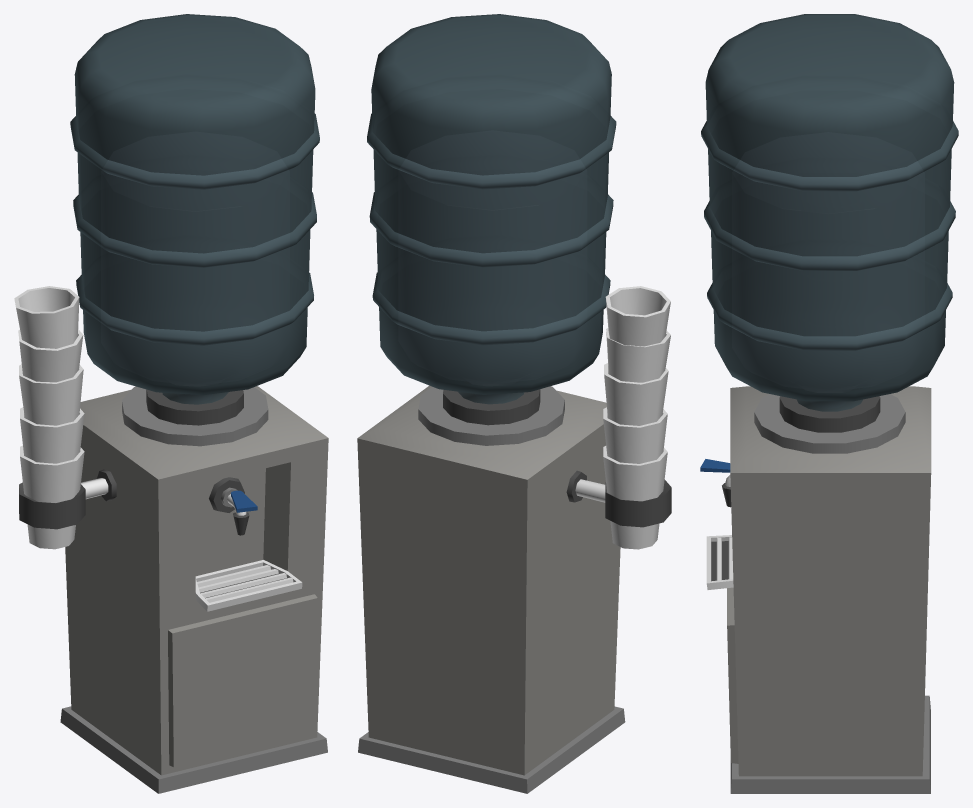
File: water-cooler.gltf
3 views of the same model, side by side, from view 1: azimuth 30°, elevation 25°; view 2: azimuth 150°, elevation 25°; view 3: azimuth 270°, elevation 25° (orthographic). The views are drawn at different scales.
Visible parts, largest first — view 1: Cube.023; view 2: Cube.023; view 3: Cube.023.
Boxes of the visible parts, x1=… form: Cube.023: x1=14, y1=14, x2=328, y2=793; Cube.023: x1=357, y1=14, x2=671, y2=793; Cube.023: x1=700, y1=14, x2=958, y2=793.
Size of the model in its own units: 0.6069 by 1.4 by 0.4706.
